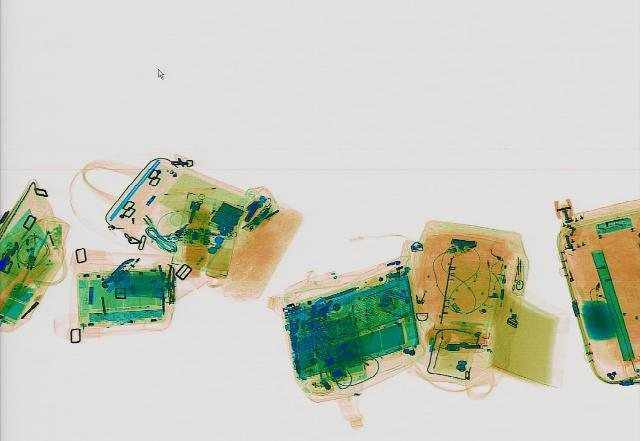Knife: (96, 254, 136, 287)
